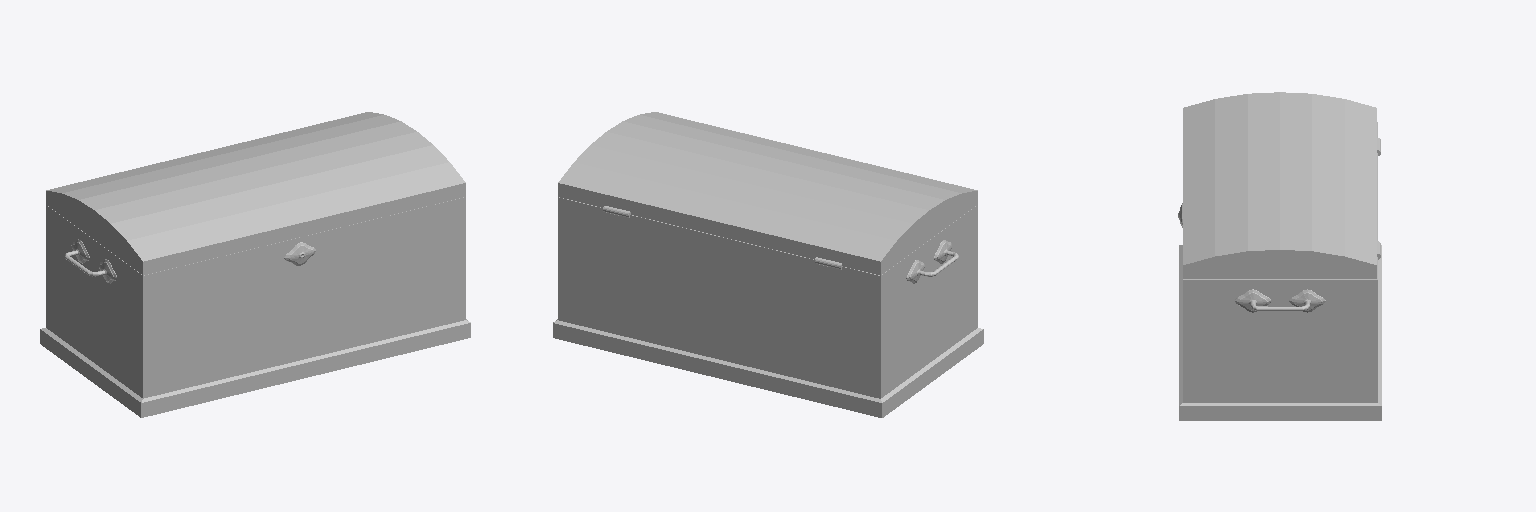
File: chest .obj
3 renders of one model, left to right at view 1: azimuth 30°, elevation 25°; view 2: azimuth 150°, elevation 25°; view 3: azimuth 270°, elevation 25°, orthographic.
Parts seen in each view (by area): view 1: chest_Cube; view 2: chest_Cube; view 3: chest_Cube.
Part boxes in pixels (left/top/right/bottom): chest_Cube: left=40, top=112, right=470, bottom=417; chest_Cube: left=553, top=112, right=983, bottom=417; chest_Cube: left=1178, top=92, right=1381, bottom=420.
Bounding box in the file's own units: 1.96 × 0.8839 × 0.9573.